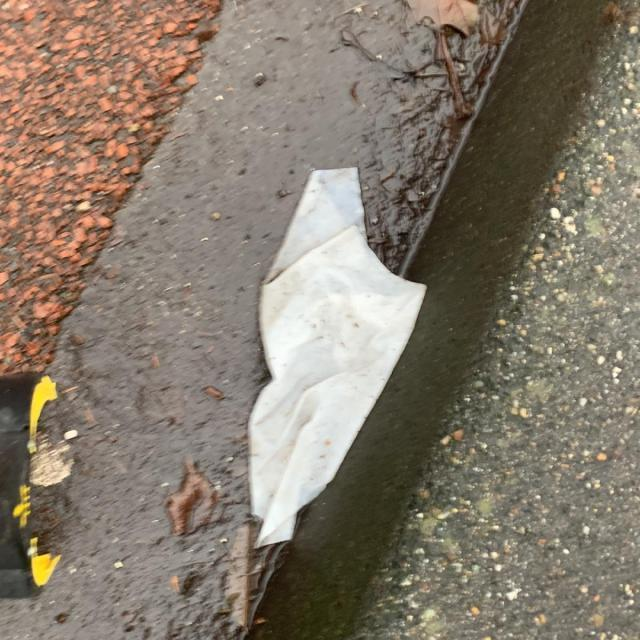Paper: (247, 164, 428, 552)
